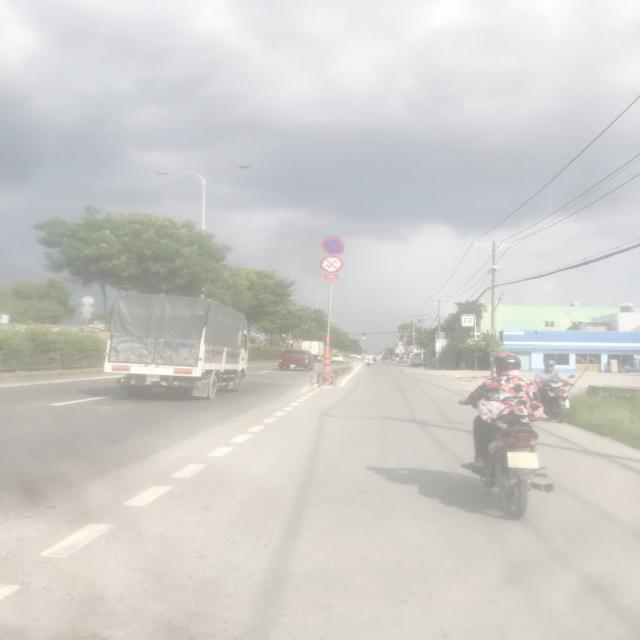cam_dung_xe_va_do_xe: (322, 237, 344, 255), (362, 332, 366, 337)
cam_o_to_tai_va_xe_khach: (398, 341, 403, 344)
cam_xe_2_banh_va_xe_3_banh_co_dong_co: (320, 256, 344, 274), (361, 336, 366, 340)
khac: (396, 349, 404, 353), (398, 345, 403, 348)
